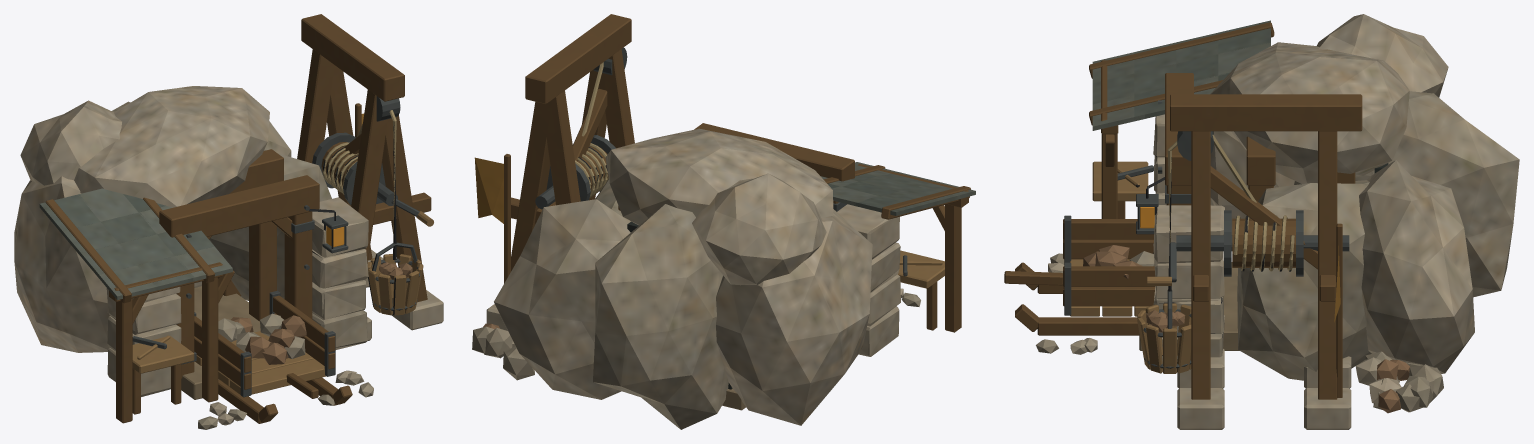
Rendered from astra_clan_mine_r1.gltf.
3 renders of one model, left to right at view 1: azimuth 30°, elevation 25°; view 2: azimuth 150°, elevation 25°; view 3: azimuth 270°, elevation 25°, orthographic. The views are drawn at different scales.
Parts seen in each view (by area): view 1: AR_ClanMineR1_Baked; view 2: AR_ClanMineR1_Baked; view 3: AR_ClanMineR1_Baked.
Part boxes in pixels (bbox=[...]): AR_ClanMineR1_Baked: bbox=[14, 14, 443, 429]; AR_ClanMineR1_Baked: bbox=[472, 14, 975, 429]; AR_ClanMineR1_Baked: bbox=[1004, 14, 1519, 429].
Size of the model in its own units: 4.52 by 3.2 by 4.6.
Materials: 1 (1 with a texture image).
